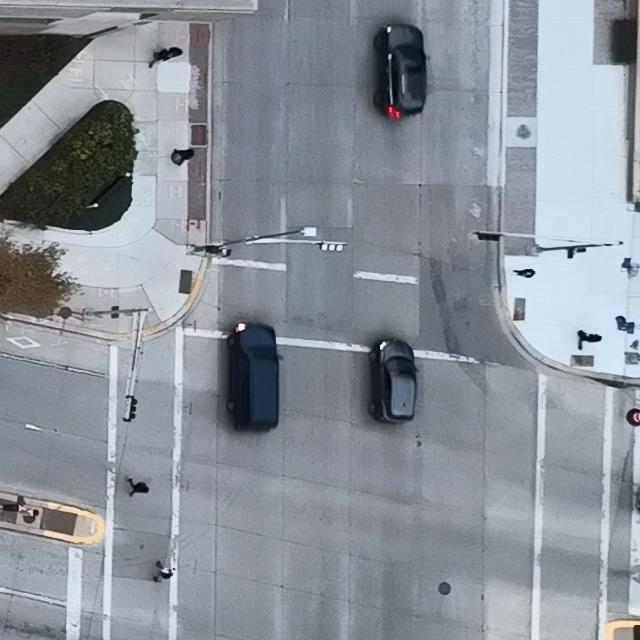car: (228, 321, 284, 433), (374, 23, 431, 118), (368, 340, 420, 424)
